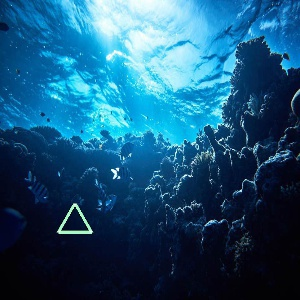triangle: (55, 200, 95, 236)
